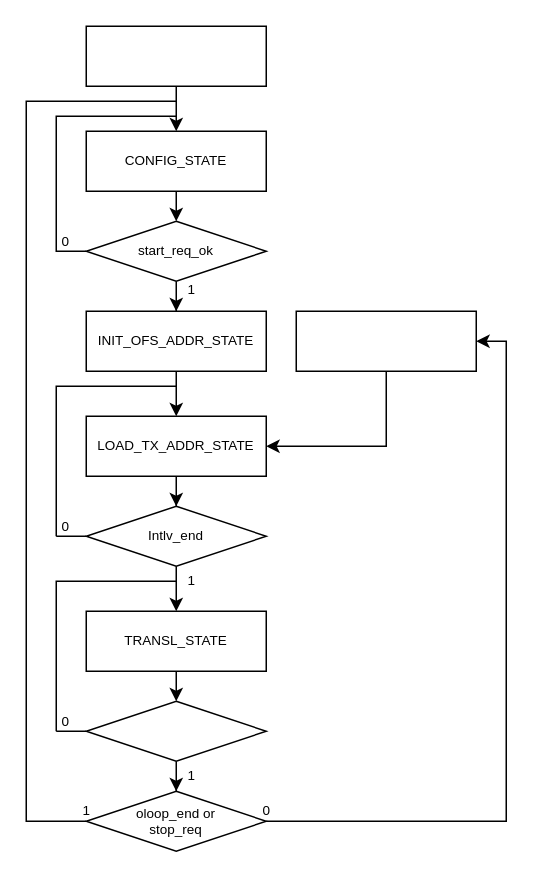
Image size: 545x878. Some labels were removed from this diagram. The shapes that lost their labels are listed below. From the top down, each one's centre as x and y in pixels, then its label:
the point at 175,55: RESET_STATE
the point at 385,340: UPD_OFS_ADDR_STATE
the point at 175,730: loop_end or stop_req
